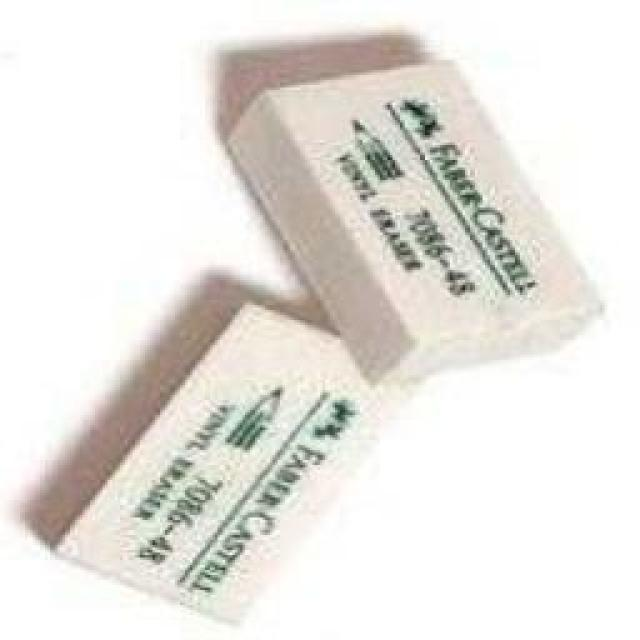Silgi: (227, 57, 609, 390)
